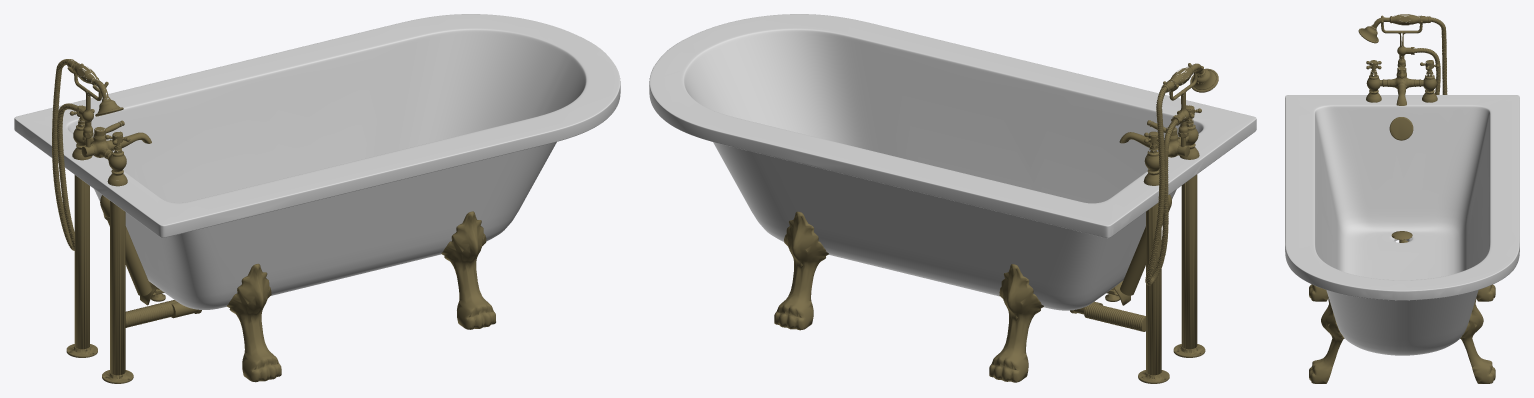
The picture shows the model from 3 angles, left to right: view 1: azimuth 30°, elevation 25°; view 2: azimuth 150°, elevation 25°; view 3: azimuth 270°, elevation 25°; orthographic projection. The views are drawn at different scales.
Visible parts, largest first — view 1: Rectangle156; view 2: Rectangle156; view 3: Rectangle156.
Part boxes in pixels (x1,y1,x2,y2): Rectangle156: (14, 14, 620, 383); Rectangle156: (649, 14, 1256, 383); Rectangle156: (1285, 14, 1519, 383).
Bounding box in the file's own units: 1.53 × 0.8305 × 0.7564.
